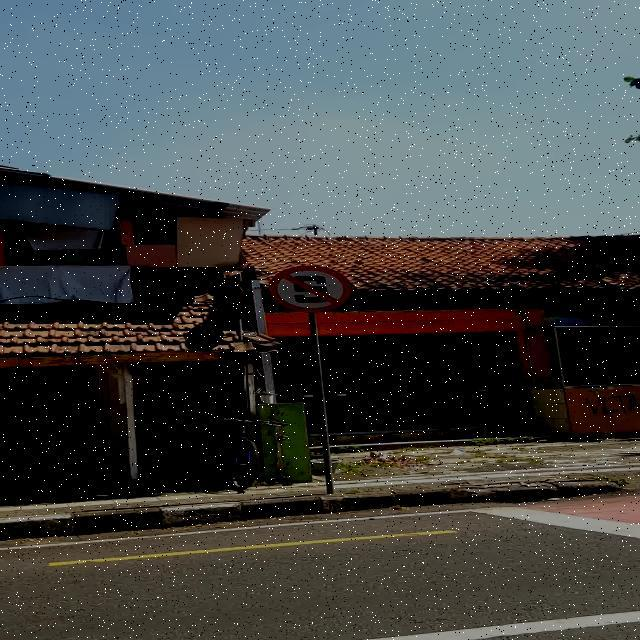Dilarang Berhenti: (270, 266, 352, 312)
